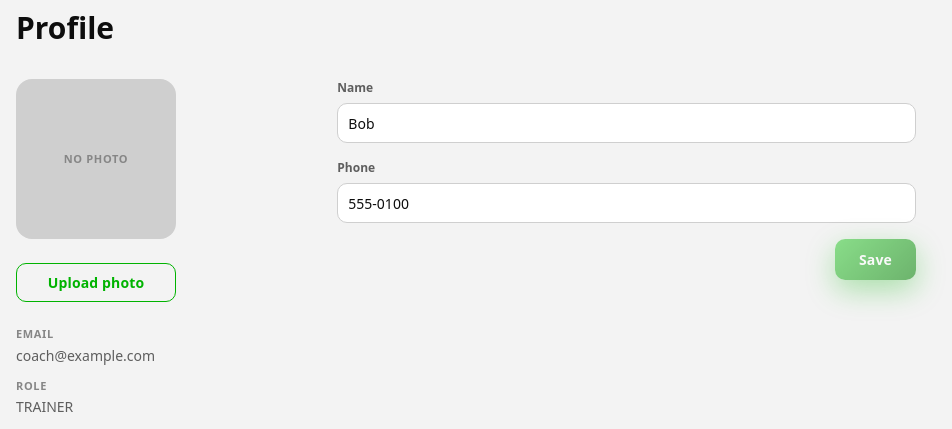
Test case: ProfilePage › submits PATCH /me/profile and shows confirmation
This screenshot has width=952, height=429.
Replace the text in the field showing "Bob" with "Robert" at (627,123), box [337,103,916,143]
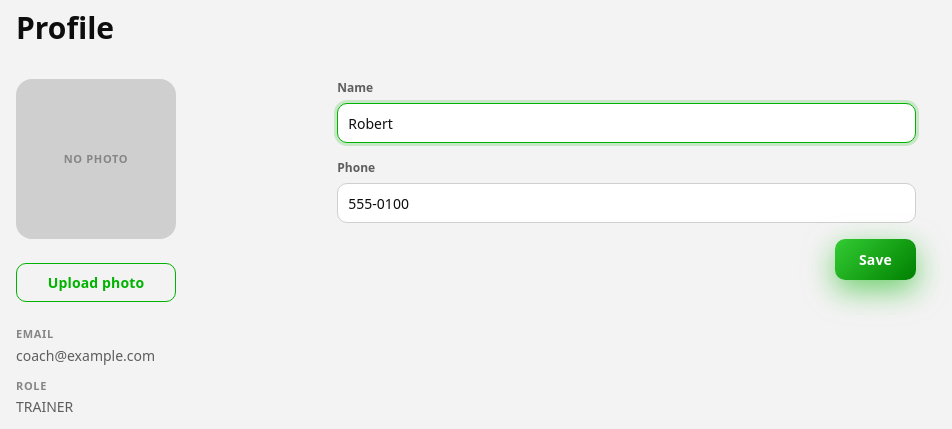
Click the button "Save" at (876,260), box [835,239,916,280]
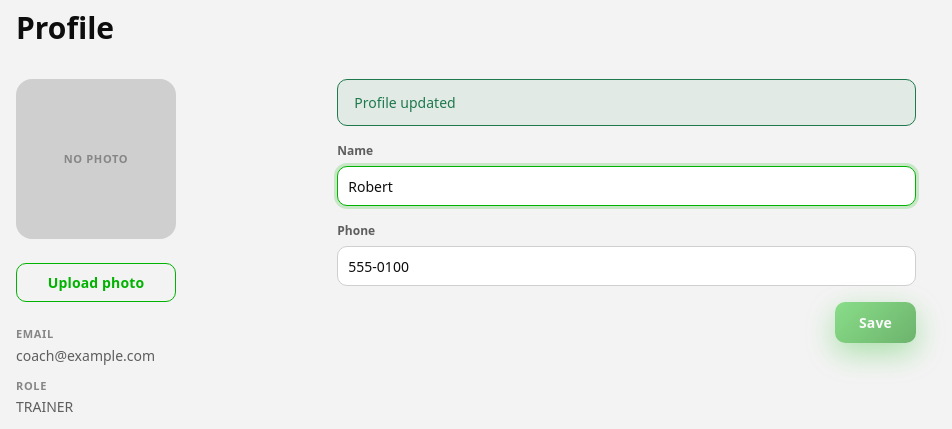
expect the text "Profile updated" is shown: met, box [337,79,916,126]
